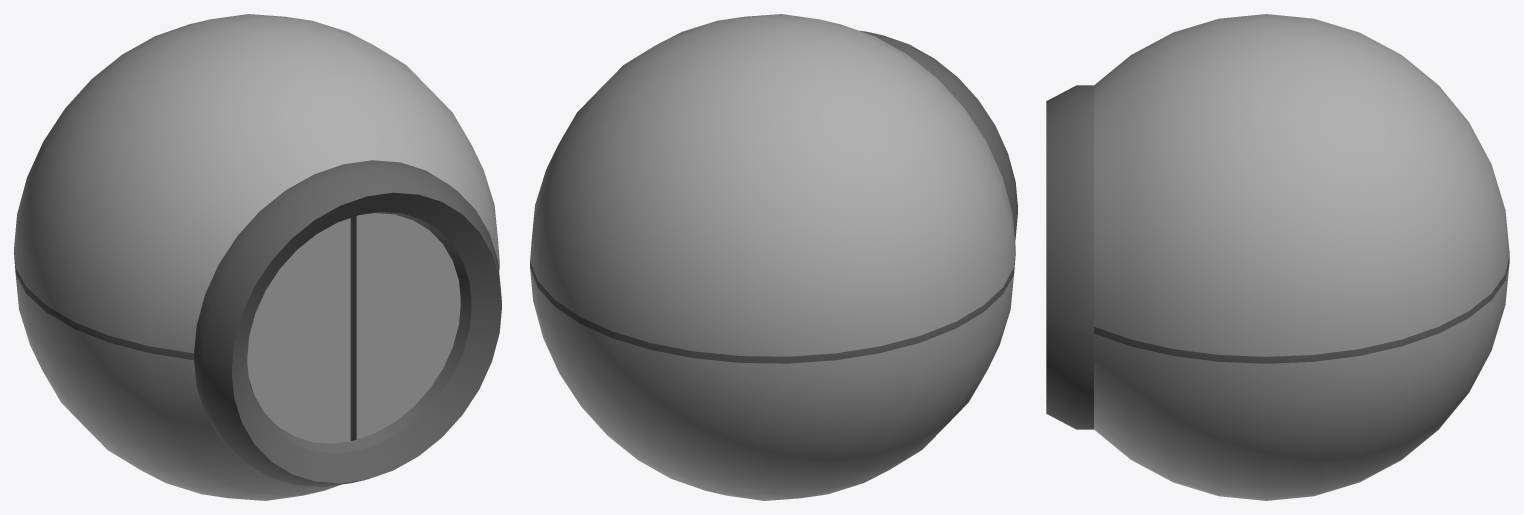
File: House_Single_Cube.obj
The picture shows the model from 3 angles, left to right: view 1: azimuth 30°, elevation 25°; view 2: azimuth 150°, elevation 25°; view 3: azimuth 270°, elevation 25°; orthographic projection.
Visible parts, largest first — view 1: House_Single_Cube.016; view 2: House_Single_Cube.016; view 3: House_Single_Cube.016.
Part boxes in pixels (x1=…): House_Single_Cube.016: x1=14, y1=14, x2=501, y2=500; House_Single_Cube.016: x1=530, y1=14, x2=1017, y2=500; House_Single_Cube.016: x1=1046, y1=14, x2=1509, y2=500.
Bounding box in the file's own units: 3.99 × 4 × 3.8.
